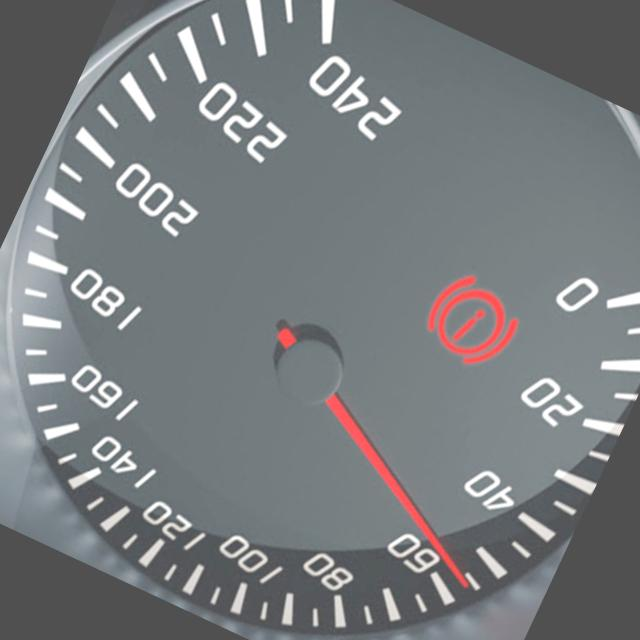kontrolka: (407, 253, 540, 390)
